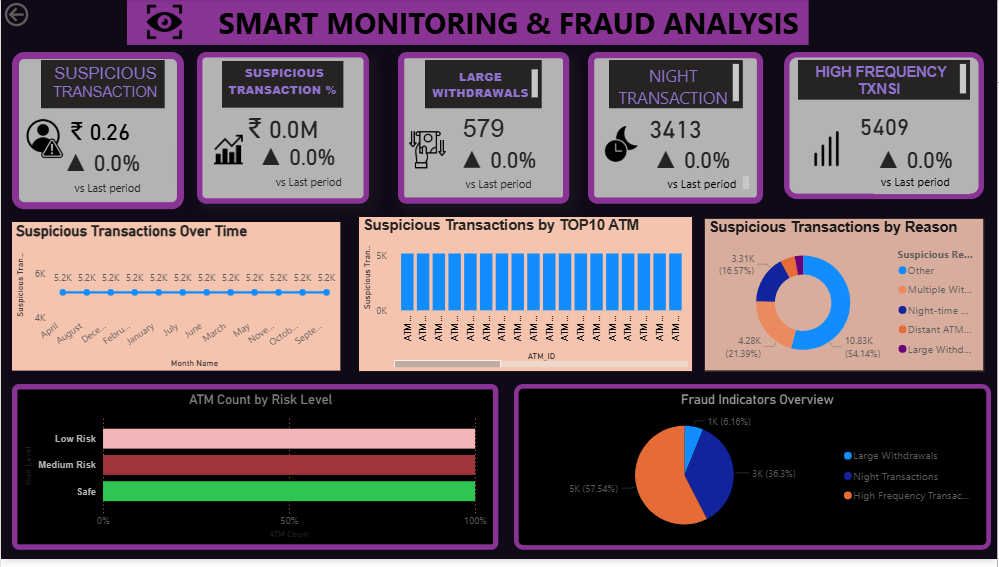

Layout of this report page (visuals, bound fields, positions):
{"tool":"powerbi","page":{"name":"   SMART MONITORING & FRAUD ANALYSIS ","canvas":[1280,720],"ordinal":1},"visuals":[{"type":"card","fields":{"Values":["measures (2).Withdrawal Growth %"]},"box":[63,194.1,116.9,33.4],"z":0},{"type":"card","fields":{"Values":["measures (2).Suspicious Transaction %"]},"box":[251.9,68.1,221,195.3],"z":1000},{"type":"textbox","box":[284,79.7,155.5,60.4],"z":2000},{"type":"textbox","box":[303.3,219.8,154.2,30.8],"z":3000},{"type":"card","fields":{"Values":["measures (2).Suspicious Transaction %"]},"box":[14.1,68.1,221,201.8],"z":4000},{"type":"textbox","box":[51.4,78.4,159.4,61.7],"z":5000},{"type":"textbox","box":[56.5,227.5,160.6,30.8],"z":6000},{"type":"card","fields":{"Values":["measures (2).Large Withdrawals"]},"box":[510.2,68.1,219.8,195.3],"z":7000},{"type":"textbox","box":[544.9,78.4,150.4,61.7],"z":8000},{"type":"textbox","box":[573.2,222.3,132.4,32.1],"z":9000},{"type":"card","fields":{"Values":["measures (2).Night Transactions"]},"box":[754.4,68.1,224.9,195.3],"z":10000},{"type":"textbox","box":[781.4,78.4,172.2,61.7],"z":11000},{"type":"textbox","box":[839.2,222.3,127.2,28.3],"z":12000},{"type":"card","fields":{"Values":["measures (2).High Frequency Transactions"]},"box":[1006.3,68.1,257,188.9],"z":13000},{"type":"textbox","box":[1024.3,78.4,221,51.4],"z":14000},{"type":"textbox","box":[1121.9,219.8,123.4,30.8],"z":15000},{"type":"lineChart","title":"Suspicious Transactions Over Time","fields":{"Category":["atm_project_db atm_cash_performance (2).Month Name"],"Y":["measures (2).Suspicious Transactions"]},"box":[14.1,286.6,421.5,191.5],"z":16000},{"type":"donutChart","title":"Suspicious Transactions by Reason","fields":{"Category":["atm_project_db fraud_analysis (2).Suspicious Reason"],"Y":["CountNonNull(atm_project_db fraud_analysis (2).Transaction_ID)"]},"box":[903.5,281.4,359.8,196.6],"z":17000},{"type":"card","fields":{"Values":["measures (2).Suspicious Indicator"]},"box":[44,188,171.1,42.4],"z":18000},{"type":"card","fields":{"Values":["measures (2).Suspicious % Indicator"]},"box":[311,182.5,138.8,37.3],"z":19000},{"type":"card","fields":{"Values":["measures (2).Large Withdrawal Indicator"]},"box":[582.2,188.9,113.1,33.4],"z":20000},{"type":"card","fields":{"Values":["measures (2).Night Transaction Indicator"]},"box":[809.8,184.7,155.9,40.7],"z":21000},{"type":"card","fields":{"Values":["measures (2).High Frequency Indicator"]},"box":[1102.9,184.7,142.3,40.7],"z":22000},{"type":"actionButton","box":[0,0,100,40],"z":23000},{"type":"clusteredColumnChart","title":"Suspicious Transactions by TOP10 ATM","fields":{"Category":["atm_project_db transactions (2).ATM_ID"],"Y":["measures (2).Suspicious Transactions"]},"box":[460.1,280.2,428,197.9],"z":24000},{"type":"hundredPercentStackedBarChart","fields":{"Category":["atm_project_db fraud_analysis (2).Risk Level"],"Y":["measures (2).ATM Count"]},"box":[13.6,494.7,625.1,213.5],"z":25000},{"type":"pieChart","title":"Fraud Indicators Overview","fields":{"Y":["measures (2).Large Withdrawals","measures (2).Night Transactions","measures (2).High Frequency Transactions"]},"box":[659.3,494.8,613,213.3],"z":26000},{"type":"image","box":[25.7,152.9,61.7,52.7],"z":27000},{"type":"image","box":[273.7,173.5,37.3,39.8],"z":28000},{"type":"image","box":[514.1,168.4,68.1,51.4],"z":29000},{"type":"image","box":[771.1,163.2,52.7,46.3],"z":30000},{"type":"image","box":[1038.4,165.8,45,52.7],"z":31000},{"type":"textbox","box":[161.9,0,876.5,59.1],"z":32000},{"type":"image","box":[160.6,6.4,99,46.3],"z":33000}]}

Visuals, with their boxes in screenshot pixels (x1, y1, x2, y2), scaled from the page's 1280x720 canvas onto the 999x567 screenshot:
card - measures (2).Withdrawal Growth %: locate(49, 153, 140, 179)
card - measures (2).Suspicious Transaction %: locate(197, 54, 369, 207)
textbox: locate(222, 63, 343, 110)
textbox: locate(237, 173, 357, 197)
card - measures (2).Suspicious Transaction %: locate(11, 54, 183, 213)
textbox: locate(40, 62, 165, 110)
textbox: locate(44, 179, 169, 203)
card - measures (2).Large Withdrawals: locate(398, 54, 570, 207)
textbox: locate(425, 62, 543, 110)
textbox: locate(447, 175, 551, 200)
card - measures (2).Night Transactions: locate(589, 54, 764, 207)
textbox: locate(610, 62, 744, 110)
textbox: locate(655, 175, 754, 197)
card - measures (2).High Frequency Transactions: locate(785, 54, 986, 202)
textbox: locate(799, 62, 972, 102)
textbox: locate(876, 173, 972, 197)
"Suspicious Transactions Over Time" lineChart: locate(11, 226, 340, 377)
"Suspicious Transactions by Reason" donutChart: locate(705, 222, 986, 376)
card - measures (2).Suspicious Indicator: locate(34, 148, 168, 181)
card - measures (2).Suspicious % Indicator: locate(243, 144, 351, 173)
card - measures (2).Large Withdrawal Indicator: locate(454, 149, 543, 175)
card - measures (2).Night Transaction Indicator: locate(632, 145, 754, 178)
card - measures (2).High Frequency Indicator: locate(861, 145, 972, 178)
actionButton: locate(0, 0, 78, 32)
"Suspicious Transactions by TOP10 ATM" clusteredColumnChart: locate(359, 221, 693, 377)
hundredPercentStackedBarChart - atm_project_db fraud_analysis (2).Risk Level x measures (2).ATM Count: locate(11, 390, 498, 558)
"Fraud Indicators Overview" pieChart: locate(515, 390, 993, 558)
image: locate(20, 120, 68, 162)
image: locate(214, 137, 243, 168)
image: locate(401, 133, 454, 173)
image: locate(602, 129, 643, 165)
image: locate(810, 131, 846, 172)
textbox: locate(126, 0, 810, 47)
image: locate(125, 5, 203, 42)
